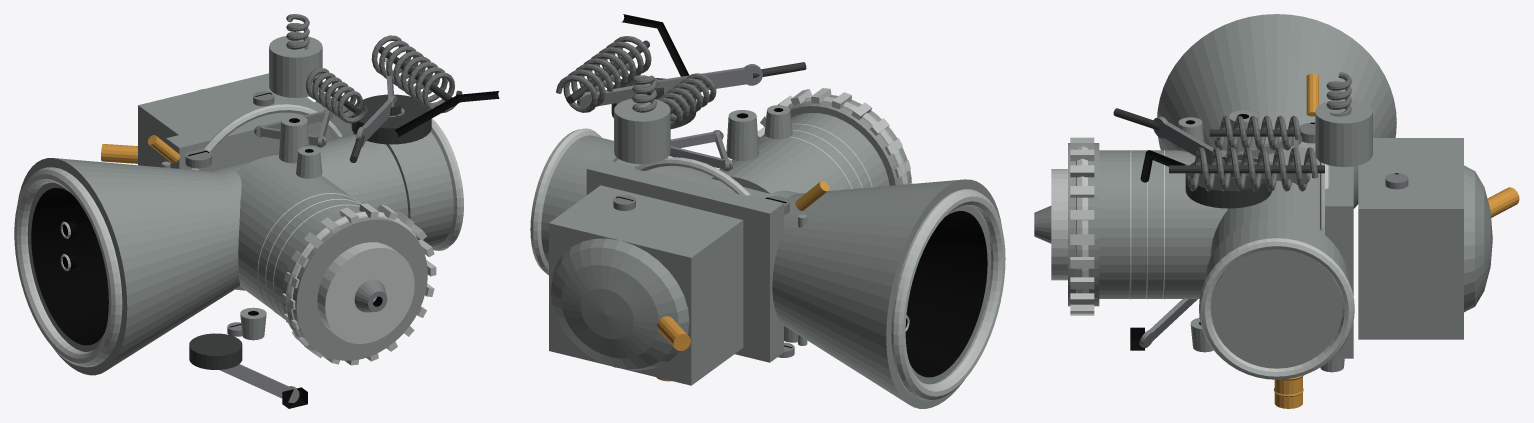
Rendered from carb_02_big_bell_racing.obj.
The picture shows the model from 3 angles, left to right: view 1: azimuth 30°, elevation 25°; view 2: azimuth 150°, elevation 25°; view 3: azimuth 270°, elevation 25°; orthographic projection. The views are drawn at different scales.
Parts seen in each view (by area): view 1: flared_bellmouth, vertical_slide_tower, flared_bellmouth_inner, top_cap_lower, top_cable_boss, rounded_bell_lip, angular_float_bowl, main_venturi_body, rear_outlet_spigot, machined_base_plate, flared_bellmouth_front_lip, exposed_tall_accel_spring (+17 smaller); view 2: flared_bellmouth, angular_float_bowl, rounded_bowl_bottom, machined_base_plate, flared_bellmouth_inner, vertical_slide_tower, rounded_bell_lip, flared_bellmouth_front_lip, rear_outlet_spigot, accelerator_pump_cylinder, exposed_tall_accel_spring, top_cap_lower (+16 smaller); view 3: angular_float_bowl, flared_bellmouth, rear_outlet_spigot, vertical_slide_tower, rear_outlet_bead, exposed_tall_accel_spring, main_venturi_body, accelerator_pump_cylinder, rounded_bowl_bottom, machined_base_plate, top_cap_lower, return_spring (+15 smaller).
Boxes of the visible parts, box(x1,y1,x2,y2) form: flared_bellmouth: box(54, 158, 240, 369); vertical_slide_tower: box(236, 155, 359, 319); flared_bellmouth_inner: box(31, 188, 108, 345); top_cap_lower: box(282, 209, 427, 360); top_cable_boss: box(317, 242, 414, 343); rounded_bell_lip: box(14, 167, 122, 367); angular_float_bowl: box(138, 73, 313, 167); main_venturi_body: box(209, 133, 408, 287); rear_outlet_spigot: box(353, 131, 453, 247); machined_base_plate: box(166, 101, 352, 171); flared_bellmouth_front_lip: box(18, 158, 127, 375); exposed_tall_accel_spring: box(371, 35, 462, 113); flared_bellmouth: box(772, 179, 962, 403); angular_float_bowl: box(549, 185, 743, 385); rounded_bowl_bottom: box(551, 238, 689, 370); machined_base_plate: box(586, 158, 783, 362); flared_bellmouth_inner: box(905, 211, 987, 377); vertical_slide_tower: box(711, 113, 889, 193); rounded_bell_lip: box(891, 189, 1005, 400); flared_bellmouth_front_lip: box(886, 179, 1001, 408); rear_outlet_spigot: box(541, 135, 618, 263); accelerator_pump_cylinder: box(614, 99, 670, 164); exposed_tall_accel_spring: box(556, 36, 651, 112); top_cap_lower: box(763, 95, 911, 185); angular_float_bowl: box(1358, 138, 1463, 339); flared_bellmouth: box(1157, 14, 1396, 208); rear_outlet_spigot: box(1205, 218, 1348, 368); vertical_slide_tower: box(1099, 150, 1274, 298); rear_outlet_bead: box(1199, 238, 1354, 379); exposed_tall_accel_spring: box(1187, 147, 1318, 191); main_venturi_body: box(1210, 143, 1322, 257); accelerator_pump_cylinder: box(1315, 99, 1372, 166); rounded_bowl_bottom: box(1464, 165, 1492, 312); machined_base_plate: box(1325, 165, 1353, 358); top_cap_lower: box(1068, 143, 1099, 306); return_spring: box(1214, 115, 1301, 150).
Bounding box in the file's own units: 0.1953 × 0.1503 × 0.2021.
